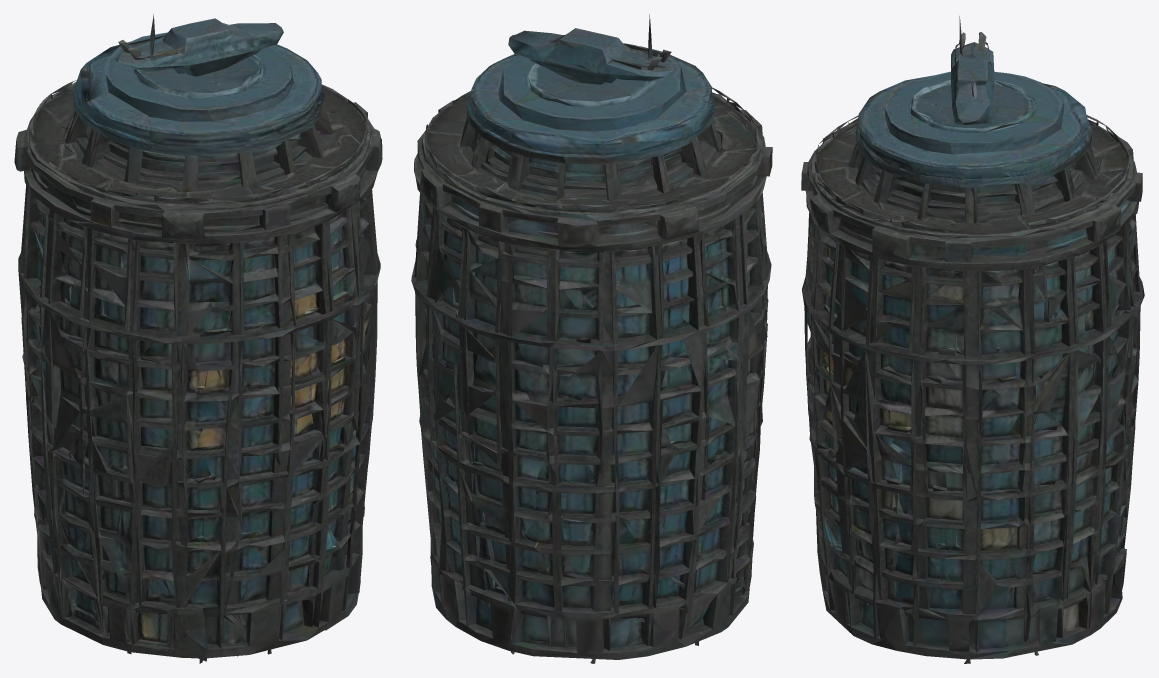
The model's file is mx_bld_tower_round.glb.
3 views of the same model, side by side, from view 1: azimuth 30°, elevation 25°; view 2: azimuth 150°, elevation 25°; view 3: azimuth 270°, elevation 25° (orthographic). The views are drawn at different scales.
Size of the model in its own units: 1.04 by 1.9 by 1.04.
1 material, 1 textured.
